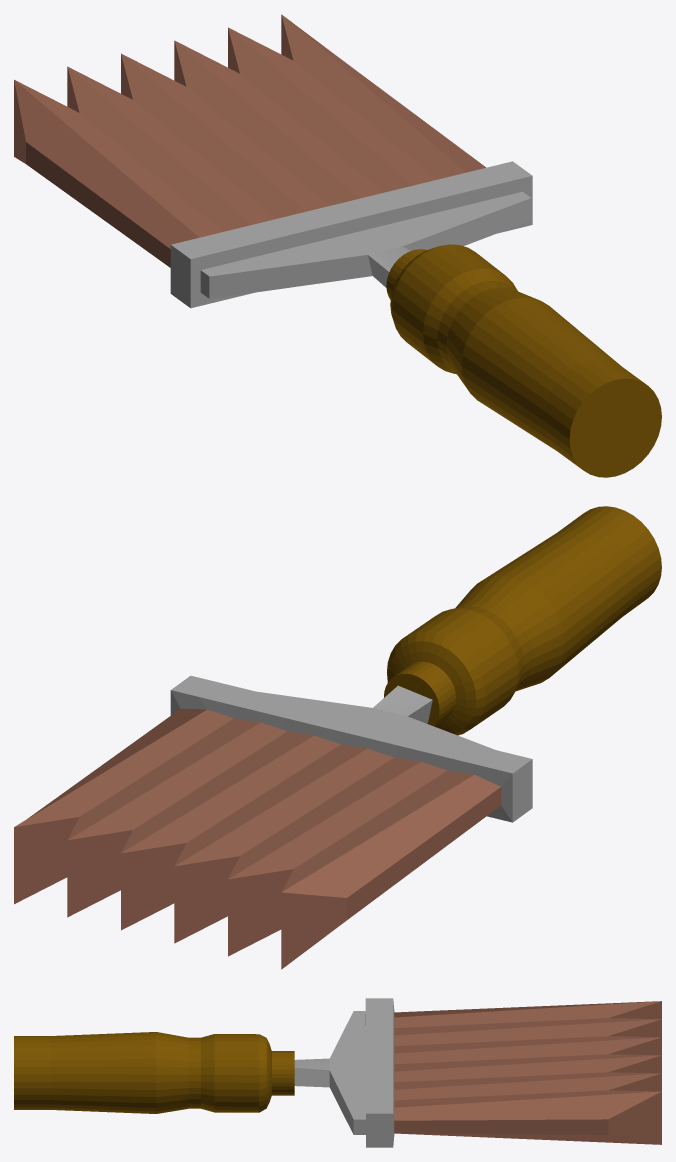
Rendered from PaintBrush.fbx.
3 views of the same model, one above another, from view 1: azimuth 30°, elevation 25°; view 2: azimuth 150°, elevation 25°; view 3: azimuth 270°, elevation 25° (orthographic). The views are drawn at different scales.
Parts seen in each view (by area): view 1: PaintBrush; view 2: PaintBrush; view 3: PaintBrush.
Boxes of the visible parts, bbox=[...] form: PaintBrush: bbox=[14, 14, 661, 477]; PaintBrush: bbox=[14, 506, 661, 969]; PaintBrush: bbox=[14, 998, 661, 1147].
Size of the model in its own units: 19.4 by 45.99 by 5.84.
